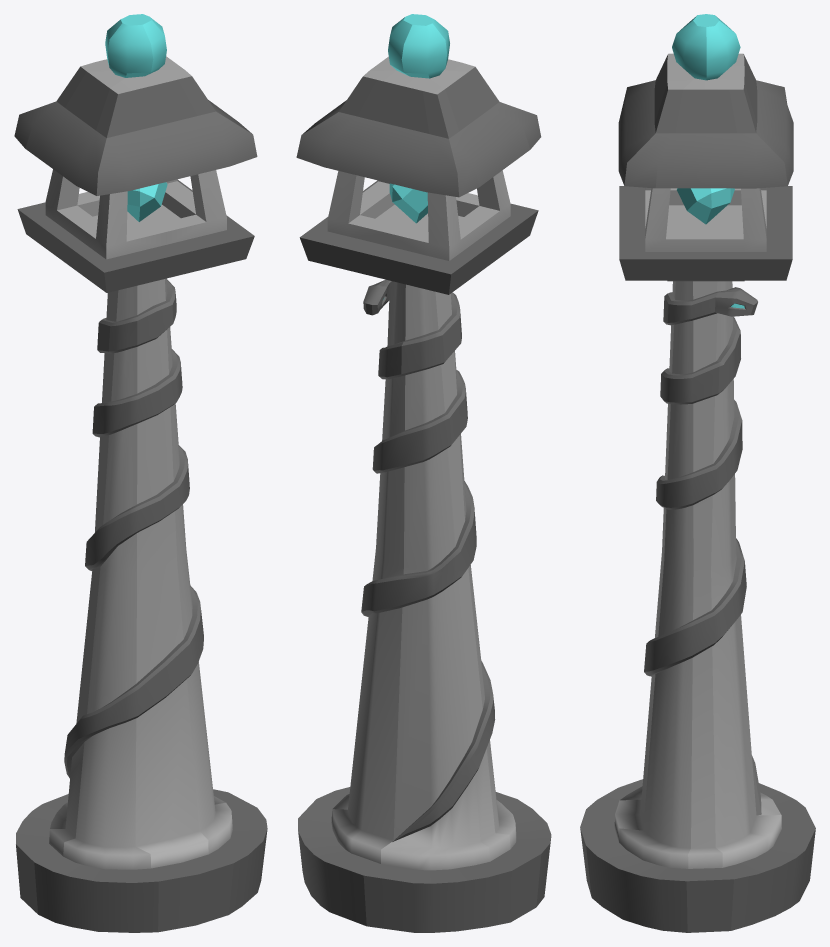
The model's file is lámpara de piedra.fbx.
3 views of the same model, side by side, from view 1: azimuth 30°, elevation 25°; view 2: azimuth 150°, elevation 25°; view 3: azimuth 270°, elevation 25° (orthographic).
Visible parts, largest first — view 1: lámpara, cristalito; view 2: lámpara, cristalito; view 3: lámpara, cristalito.
Boxes of the visible parts, left/top/right/bottom form: lámpara: left=14, top=14, right=267, bottom=932; cristalito: left=127, top=182, right=167, bottom=221; lámpara: left=296, top=14, right=551, bottom=932; cristalito: left=389, top=183, right=427, bottom=223; lámpara: left=580, top=14, right=815, bottom=932; cristalito: left=677, top=188, right=734, bottom=224.
Size of the model in its own units: 0.9747 by 3.6 by 0.8934.
